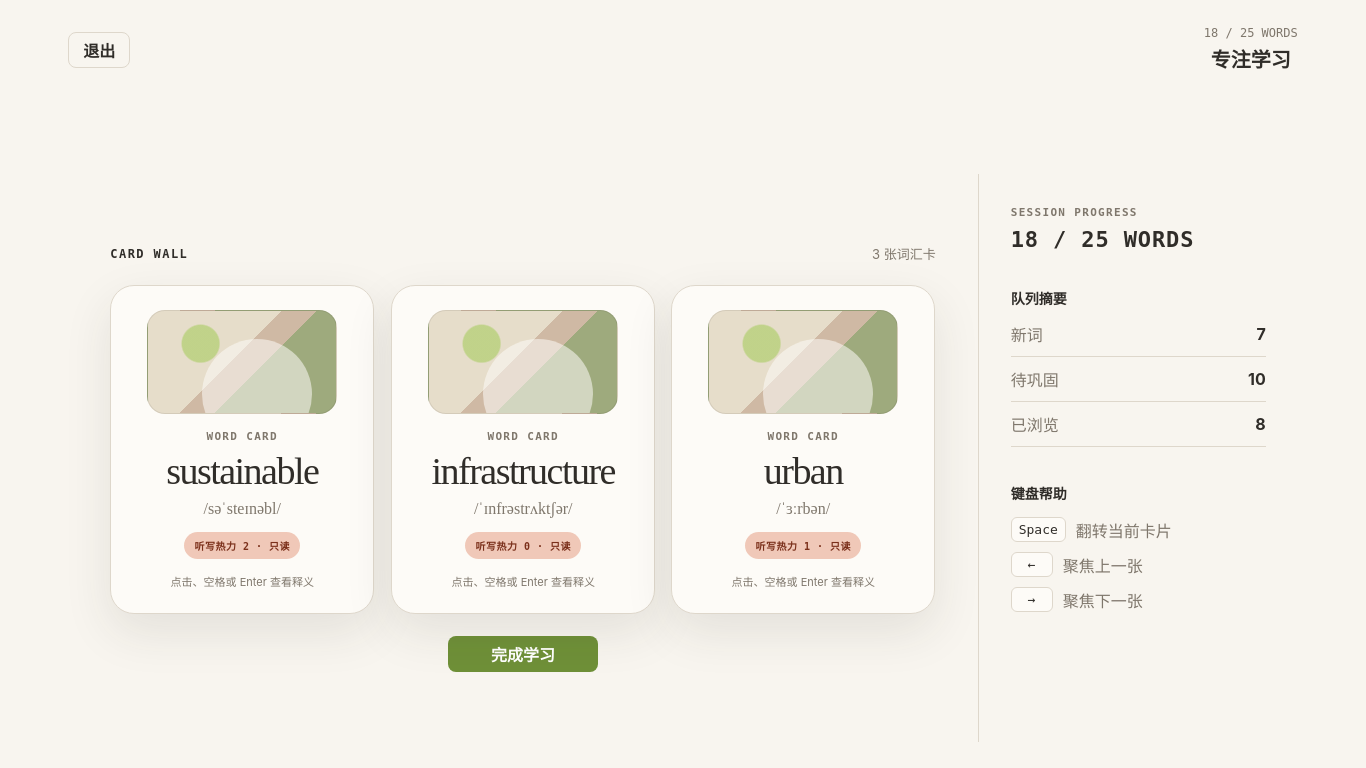
Test: 完成学习只回放固定会话和今日快照，不改变 cardId 下的双轨记忆
Click the button "完成学习". click: (523, 654)
box: [448,636,598,672]
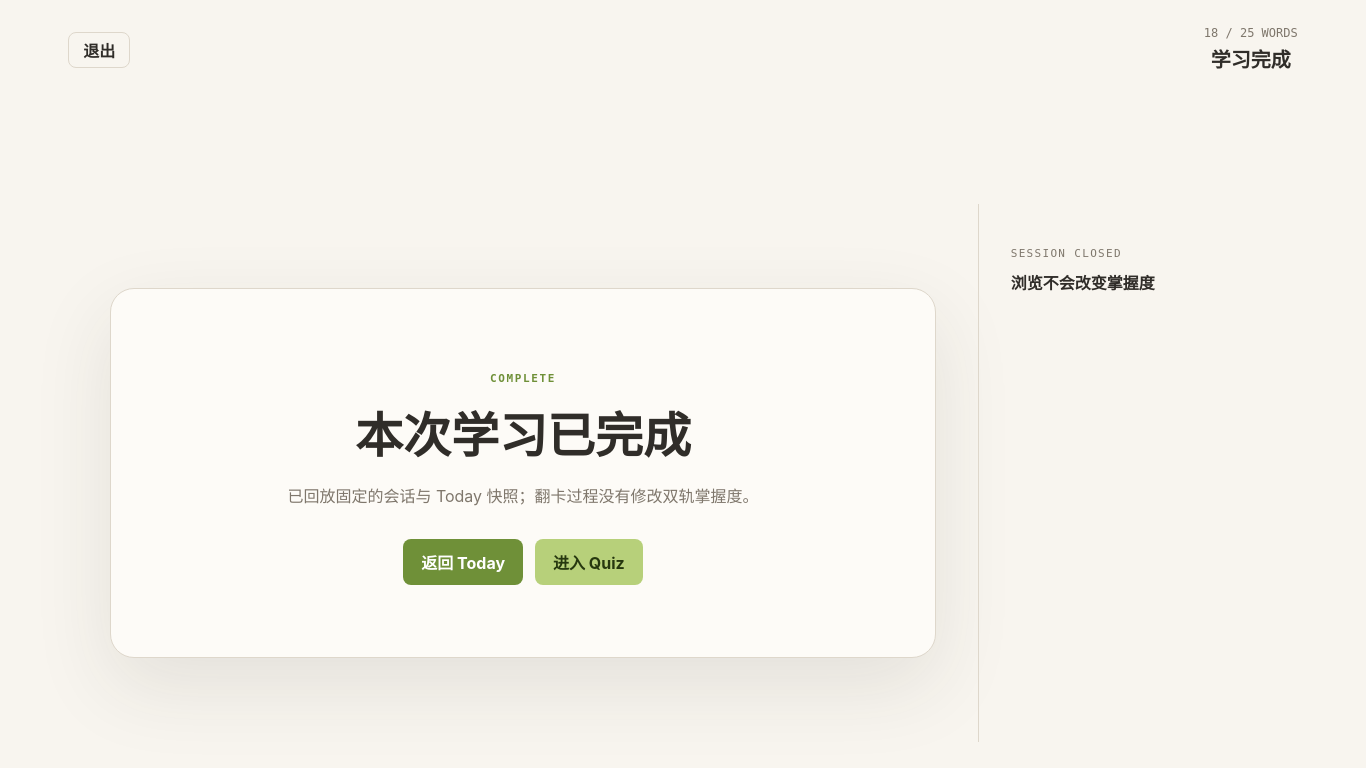
Expected: the heading "本次学习已完成" is shown, [355,410,691,463]
